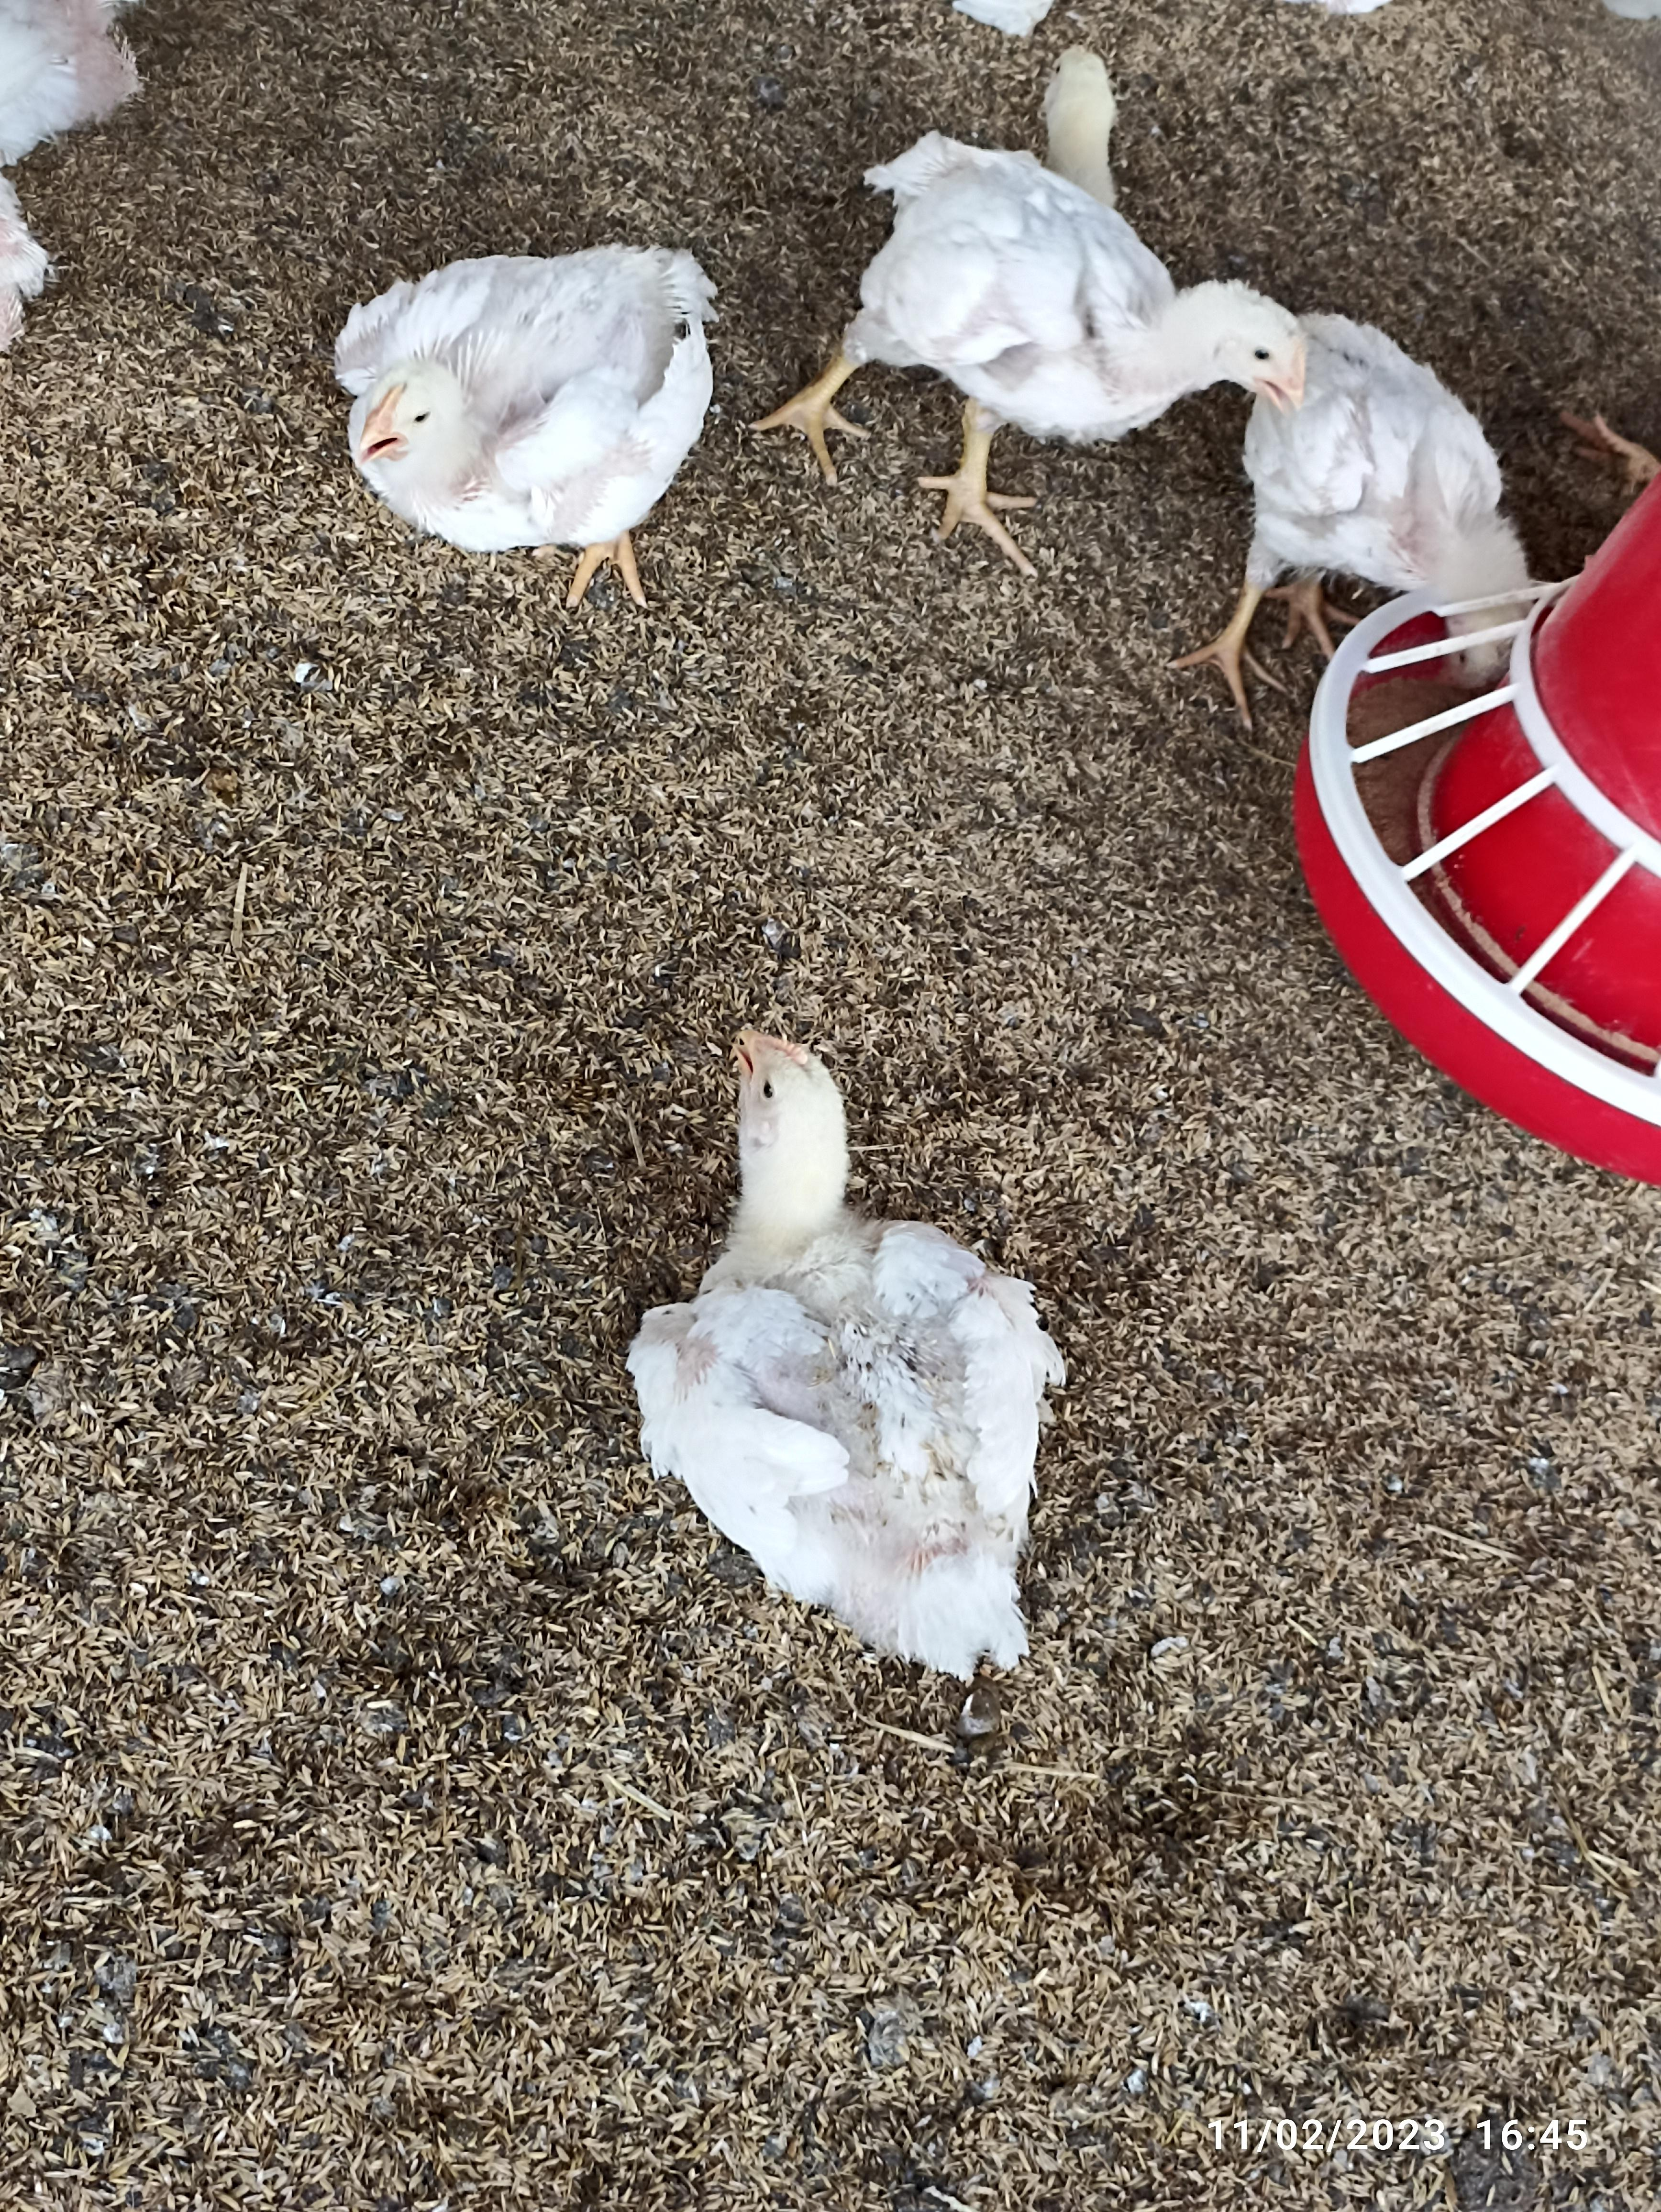Pollos: (619, 1015, 1068, 1673), (822, 122, 1317, 455), (333, 239, 703, 543), (1293, 311, 1527, 665)
